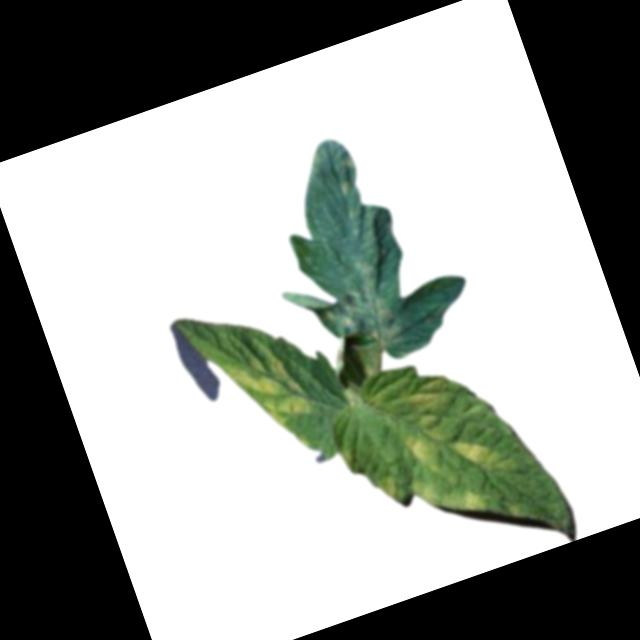Leaf_Mold: (315, 254, 413, 364), (224, 341, 319, 437), (404, 371, 460, 428), (452, 426, 511, 479), (402, 430, 440, 474), (372, 468, 409, 505), (458, 480, 492, 517)
